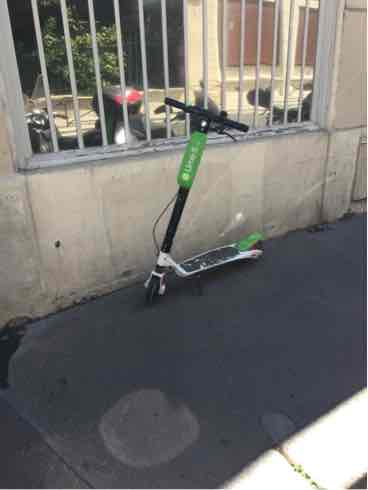scooter: (140, 105, 268, 307)
